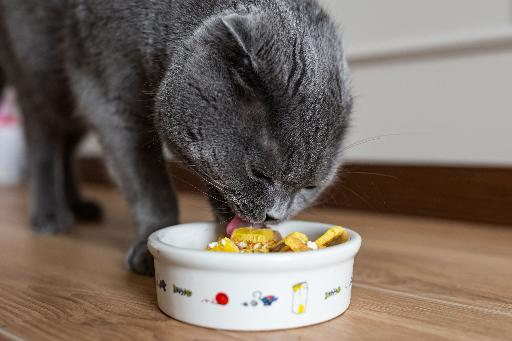cat_eating: (0, 0, 361, 331)
